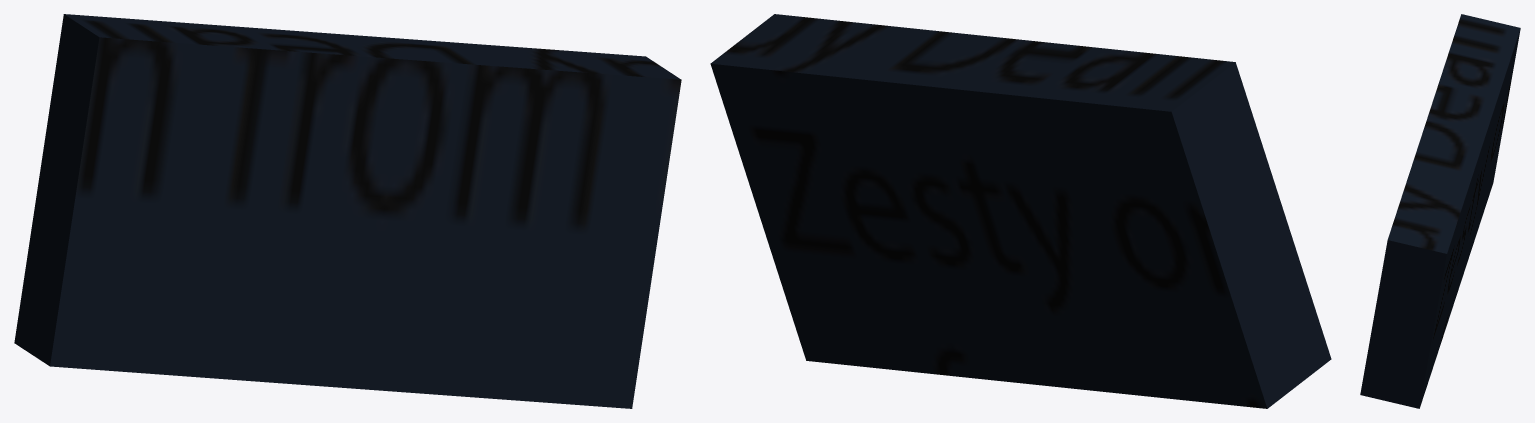
Rendered from vhs.fbx.
The picture shows the model from 3 angles, left to right: view 1: azimuth 30°, elevation 25°; view 2: azimuth 150°, elevation 25°; view 3: azimuth 270°, elevation 25°; orthographic projection. The views are drawn at different scales.
Parts seen in each view (by area): view 1: vhs; view 2: vhs; view 3: vhs.
Boxes of the visible parts, <box> form: vhs: <box>14,14,681,408</box>; vhs: <box>710,14,1331,408</box>; vhs: <box>1360,14,1520,408</box>.
Size of the model in its own units: 86.11 by 59.04 by 33.01.
